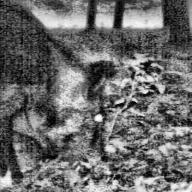boar: (0, 0, 115, 186)
